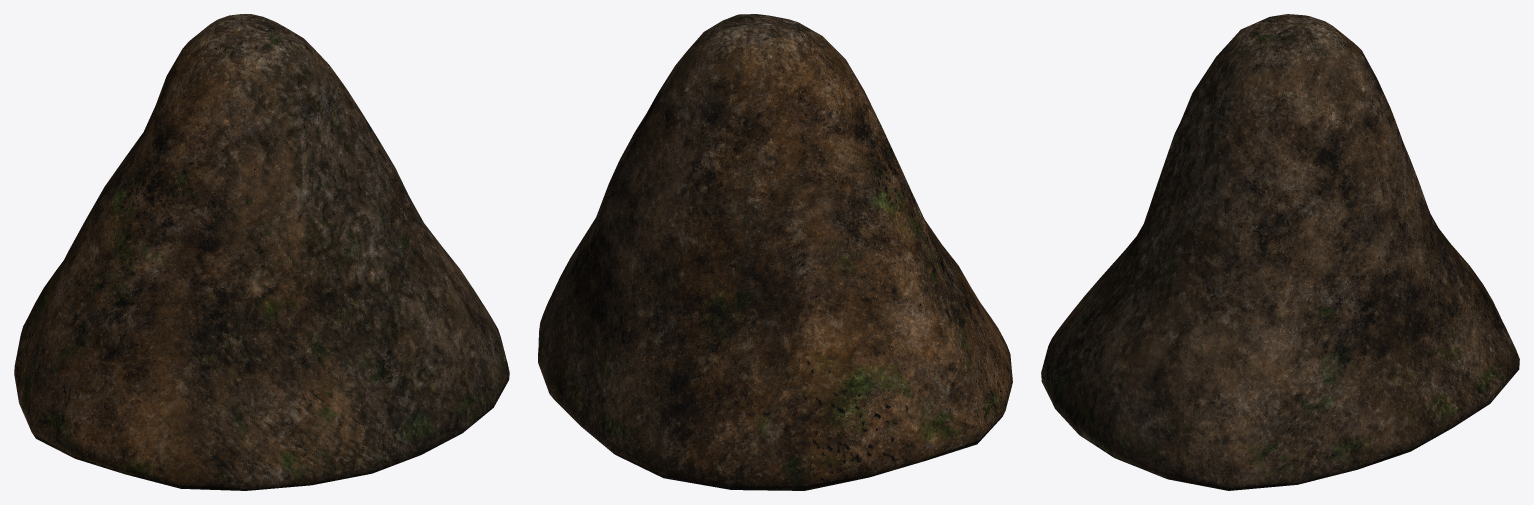
The model's file is SM_TI_Hill_2.gltf.
The picture shows the model from 3 angles, left to right: view 1: azimuth 30°, elevation 25°; view 2: azimuth 150°, elevation 25°; view 3: azimuth 270°, elevation 25°; orthographic projection. The views are drawn at different scales.
Parts seen in each view (by area): view 1: SM_TI_Hill_2; view 2: SM_TI_Hill_2; view 3: SM_TI_Hill_2.
Part boxes in pixels (box(x1,y1,x2,y2)): SM_TI_Hill_2: box(14, 14, 509, 490); SM_TI_Hill_2: box(538, 14, 1012, 490); SM_TI_Hill_2: box(1041, 14, 1519, 490).
Bounding box in the file's own units: 32.47 × 25.44 × 30.45.
Materials: 1 (1 with a texture image).
